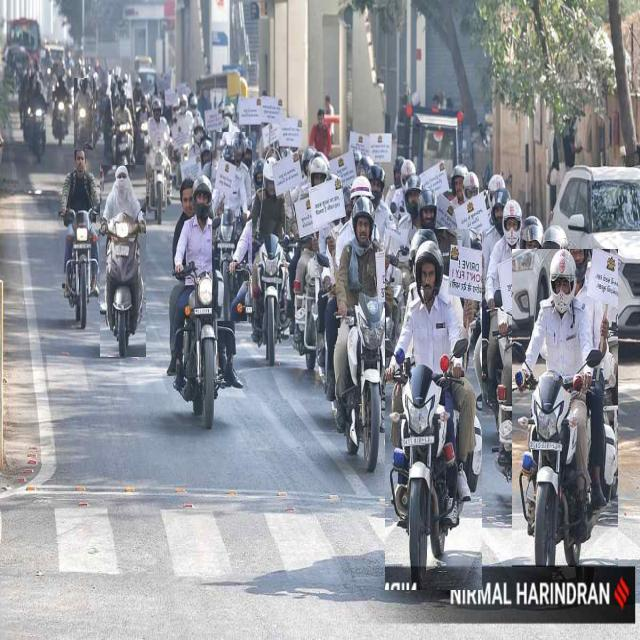car: (552, 166, 640, 338)
motorcycle: (385, 230, 482, 590), (512, 249, 618, 567), (326, 175, 392, 470), (168, 175, 242, 427), (244, 157, 294, 367), (100, 166, 146, 357), (59, 144, 104, 328), (212, 132, 252, 321), (142, 99, 171, 225), (111, 92, 134, 172), (75, 79, 93, 150), (135, 94, 150, 177), (31, 81, 46, 162), (52, 76, 69, 145)
